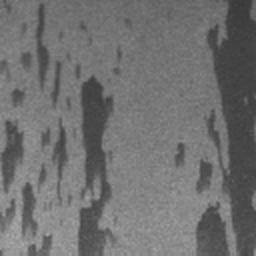Red iron sheet: (0, 4, 118, 256), (196, 0, 256, 256), (0, 120, 24, 193), (0, 59, 12, 82), (175, 142, 186, 166), (10, 88, 24, 105), (3, 0, 12, 13), (78, 23, 87, 31), (116, 49, 122, 61)
